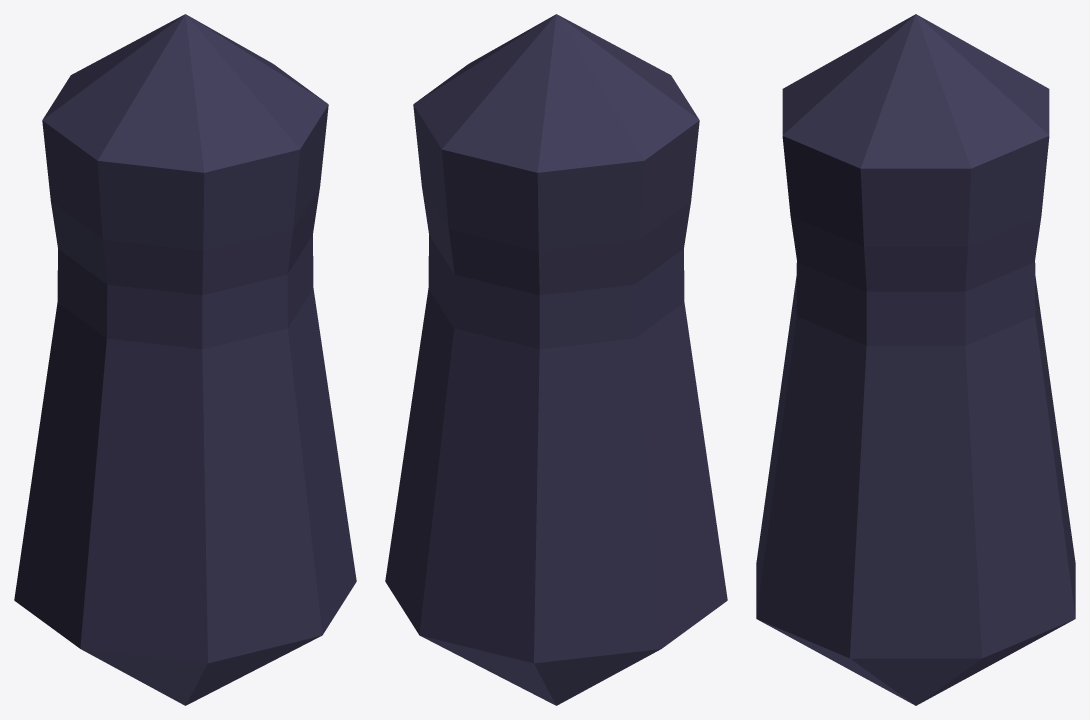
The model's file is Jem_25.fbx.
3 renders of one model, left to right at view 1: azimuth 30°, elevation 25°; view 2: azimuth 150°, elevation 25°; view 3: azimuth 270°, elevation 25°, orthographic.
Visible parts, largest first — view 1: Jem_25; view 2: Jem_25; view 3: Jem_25.
Boxes of the visible parts, box(x1,y1,x2,y2) form: Jem_25: box(14, 14, 356, 705); Jem_25: box(385, 14, 727, 705); Jem_25: box(756, 14, 1075, 705).
Size of the model in its own units: 24.45 by 58.47 by 24.45.
